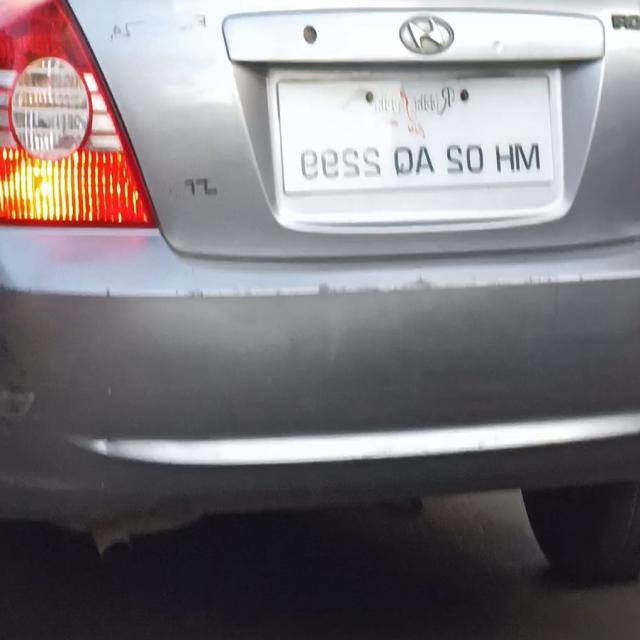license_plate: (269, 66, 562, 218)
